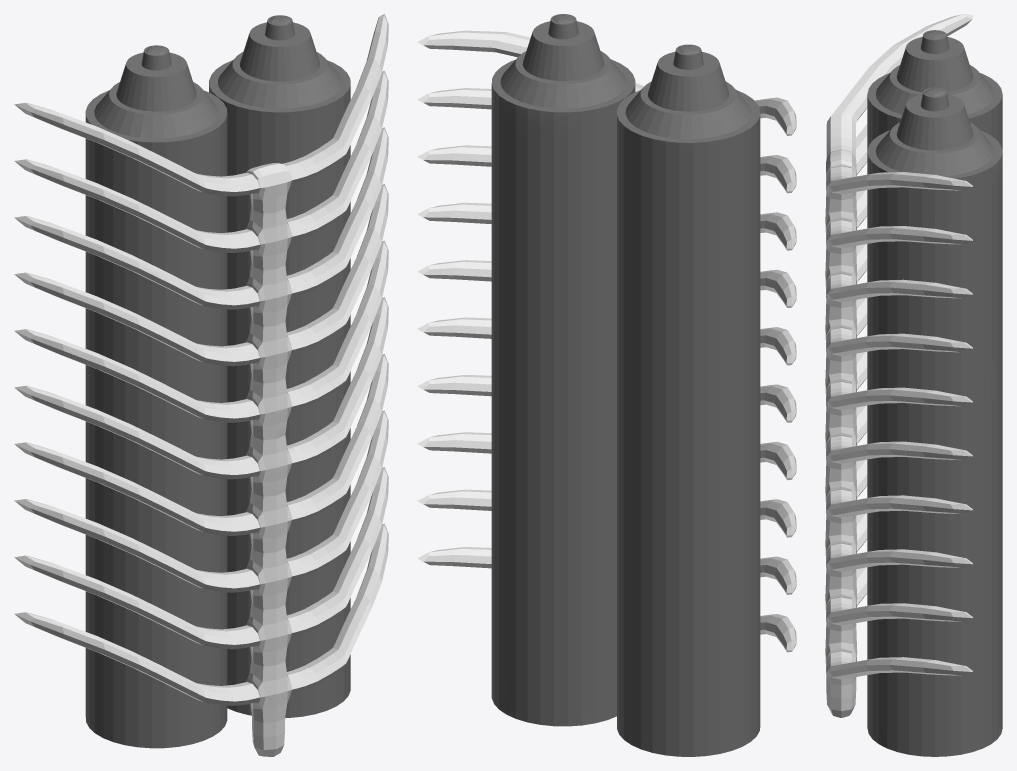
Rendered from GasCylinder.fbx.
The picture shows the model from 3 angles, left to right: view 1: azimuth 30°, elevation 25°; view 2: azimuth 150°, elevation 25°; view 3: azimuth 270°, elevation 25°; orthographic projection. The views are drawn at different scales.
Parts seen in each view (by area): view 1: GasCylinder; view 2: GasCylinder; view 3: GasCylinder.
Part boxes in pixels (x1=…): GasCylinder: x1=14, y1=14, x2=388, y2=756; GasCylinder: x1=417, y1=14, x2=796, y2=756; GasCylinder: x1=825, y1=14, x2=1002, y2=756.
Bounding box in the file's own units: 769 × 1362 × 335.
